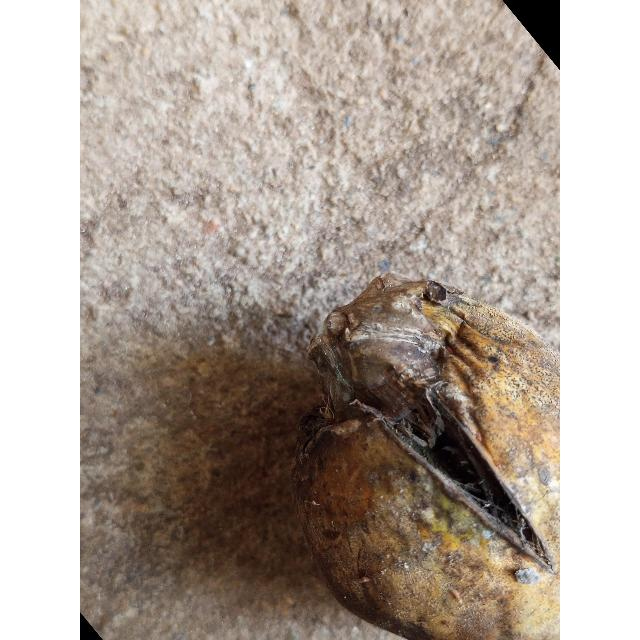damaged: (292, 274, 560, 640)
